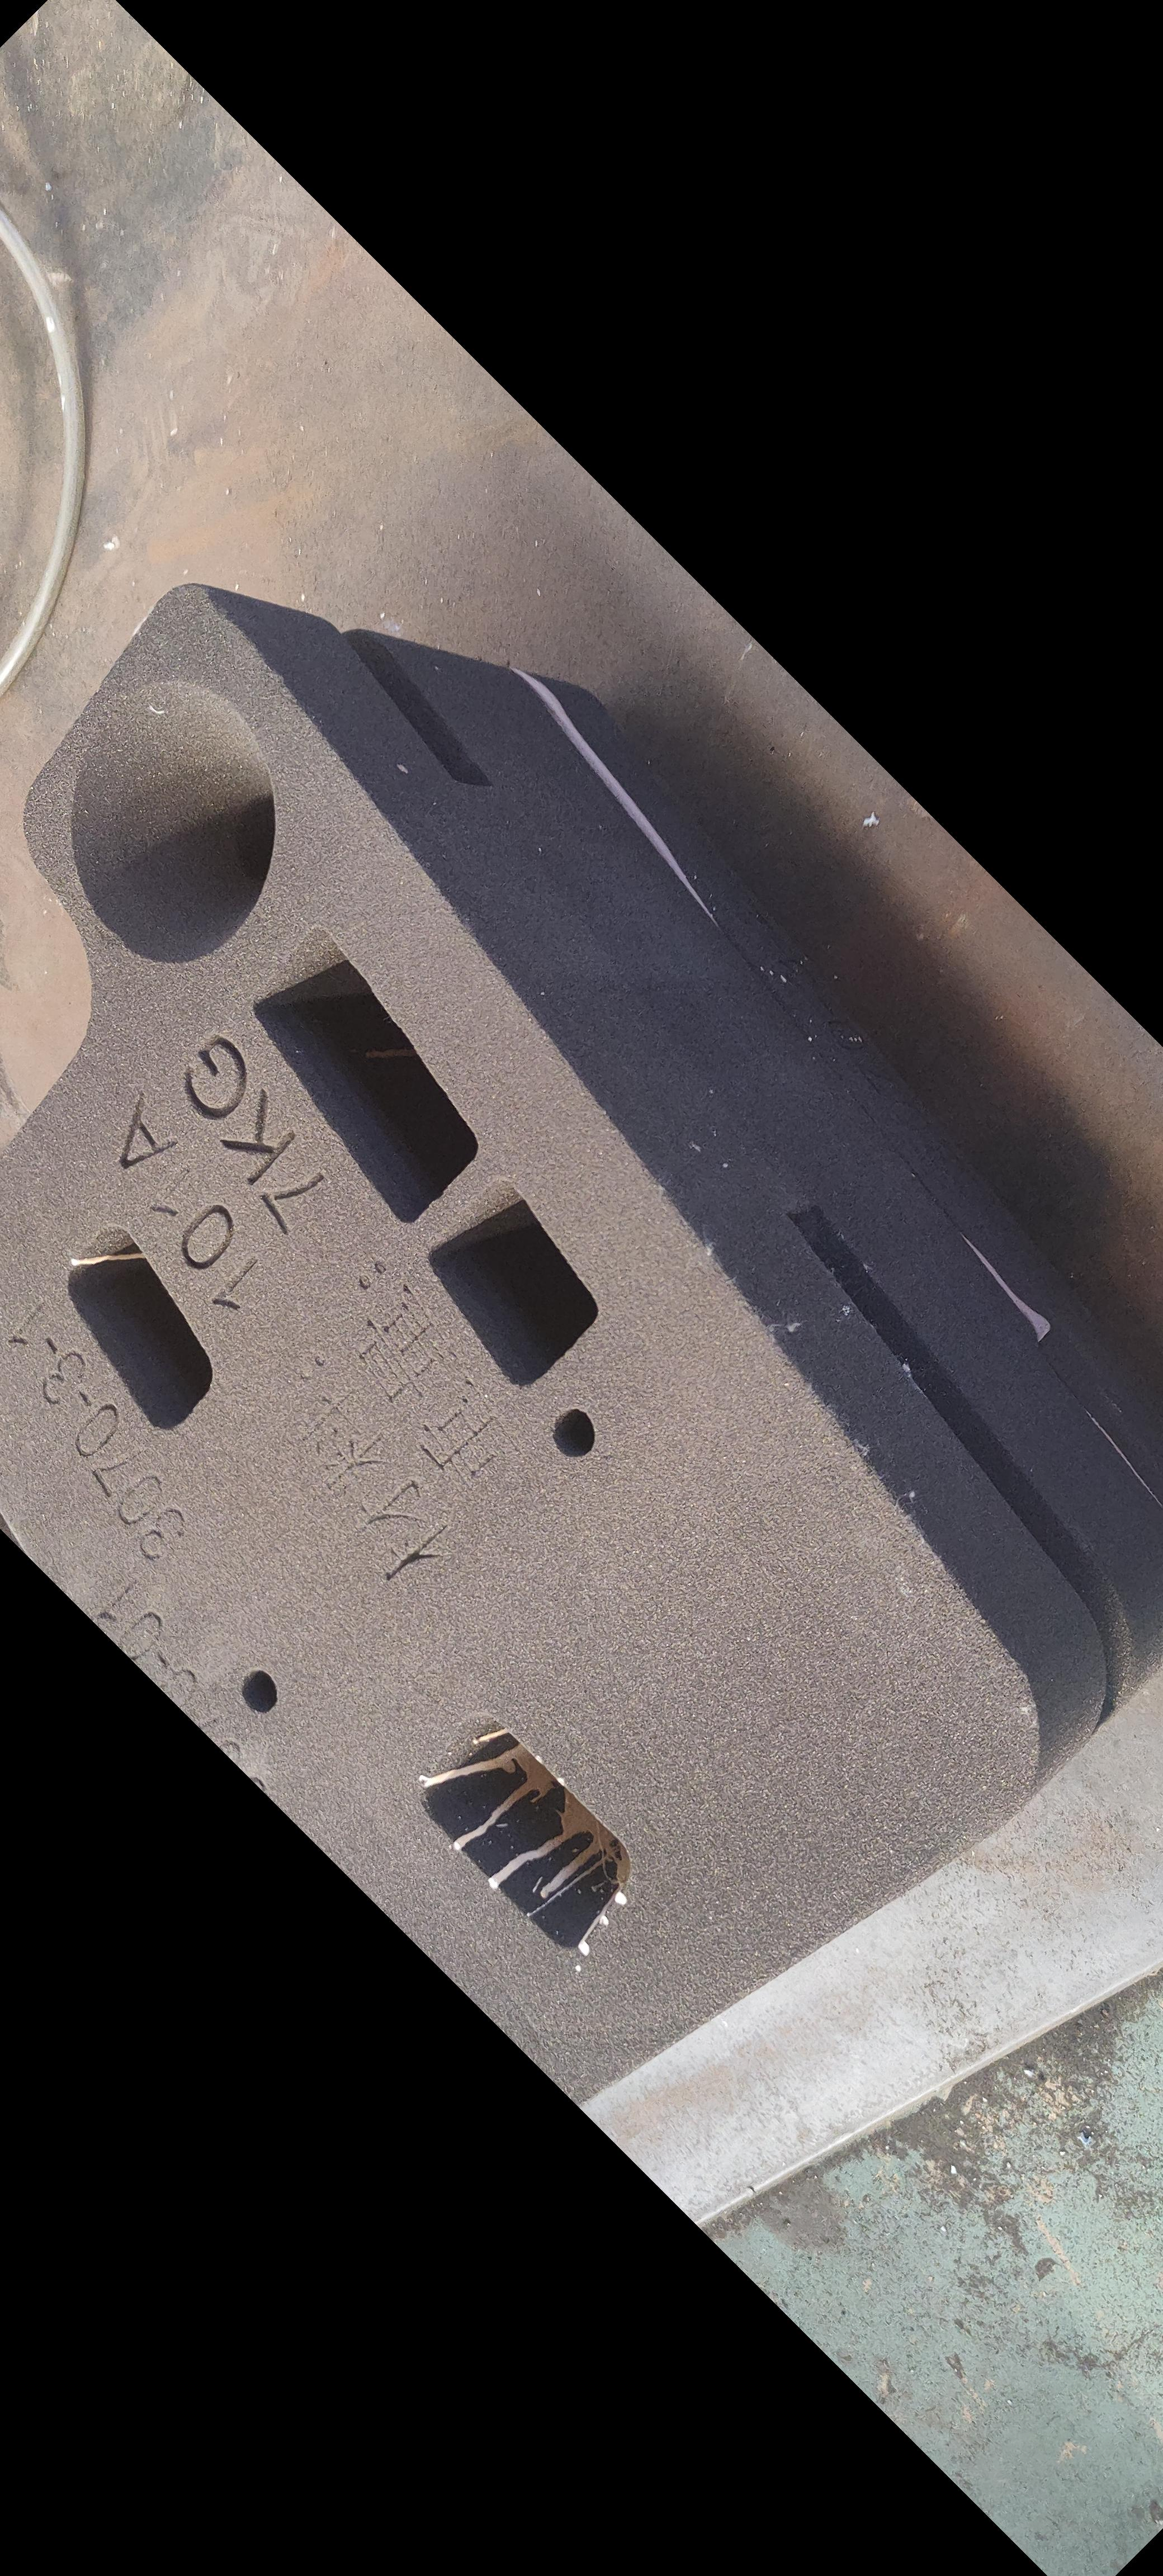pouring hole: (67, 677, 278, 968)
